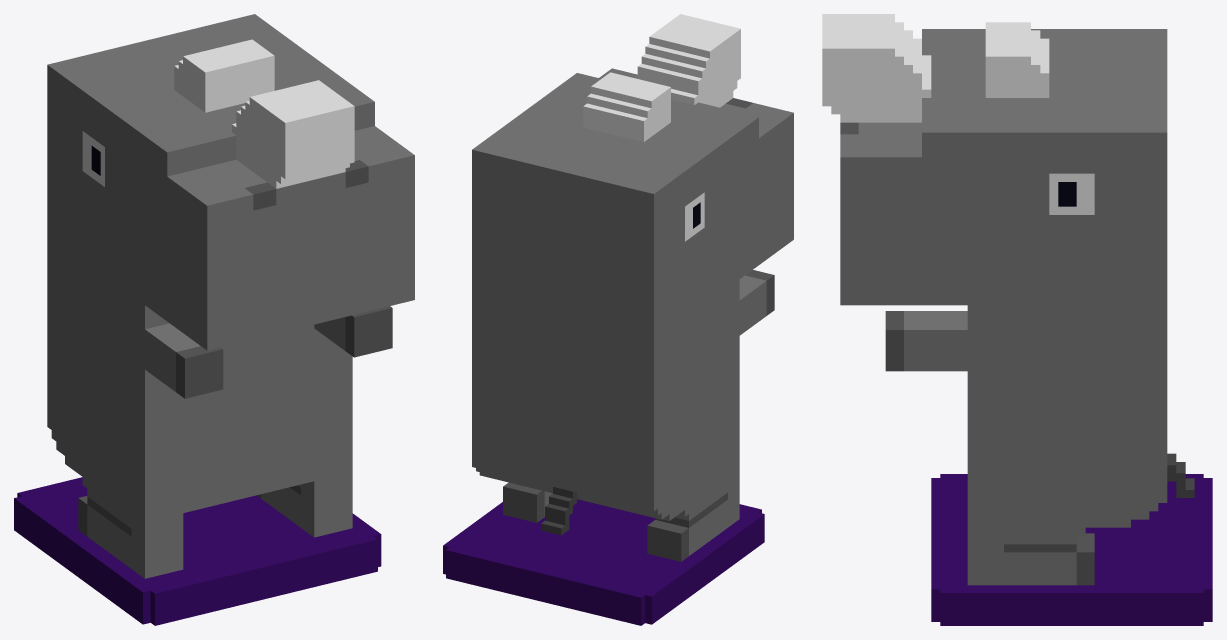
Rendered from sai.glb.
The picture shows the model from 3 angles, left to right: view 1: azimuth 30°, elevation 25°; view 2: azimuth 150°, elevation 25°; view 3: azimuth 270°, elevation 25°; orthographic projection. The views are drawn at different scales.
Parts seen in each view (by area): view 1: Untitled; view 2: Untitled; view 3: Untitled.
Boxes of the visible parts, <box> form: Untitled: <box>14,14,414,625</box>; Untitled: <box>443,14,793,625</box>; Untitled: <box>822,14,1212,625</box>.
Size of the model in its own units: 3.1 by 6.5 by 4.3.
1 material, 1 textured.
